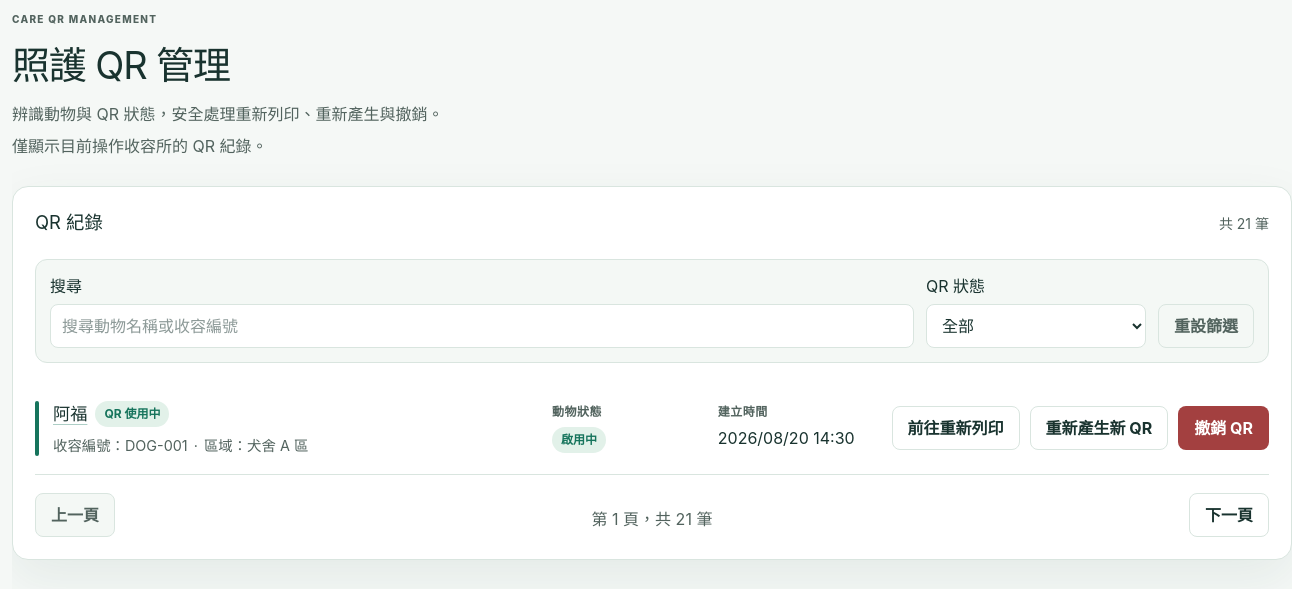
Scenario: animal-aware care QR management list › reconciles an overlarge page to page one when the result total is zero
Click the button "下一頁" at (1229,515), box [1189,493,1269,537]
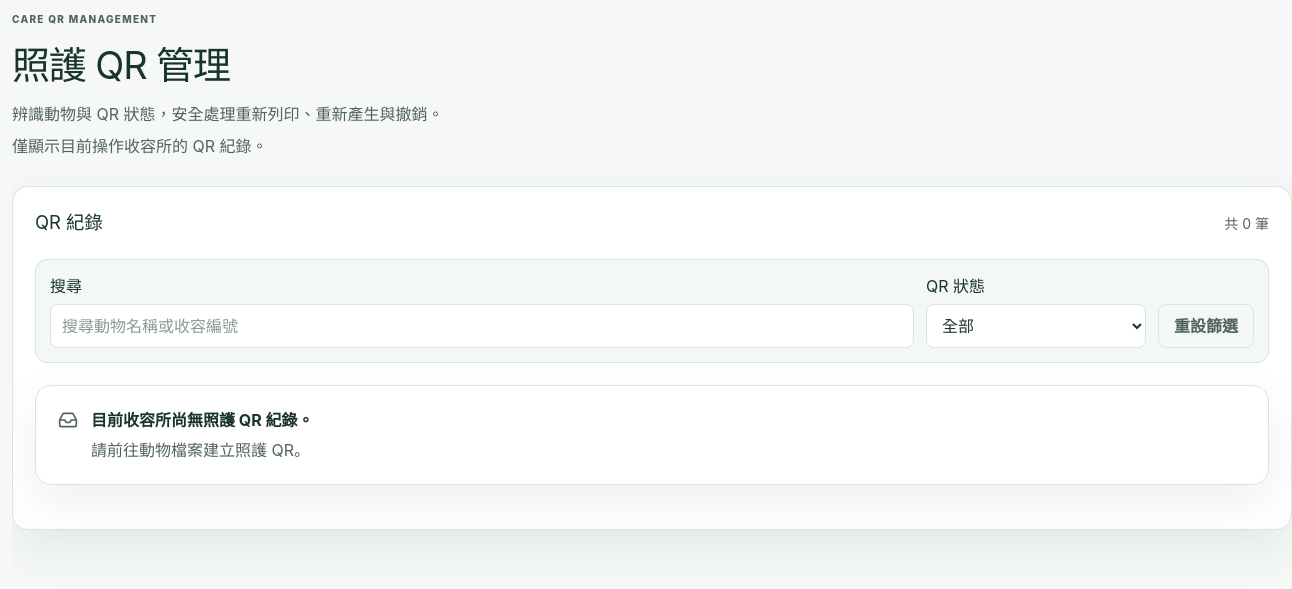
Result: the text "目前收容所尚無照護 QR 紀錄。" is shown at [91,410,314,430]
